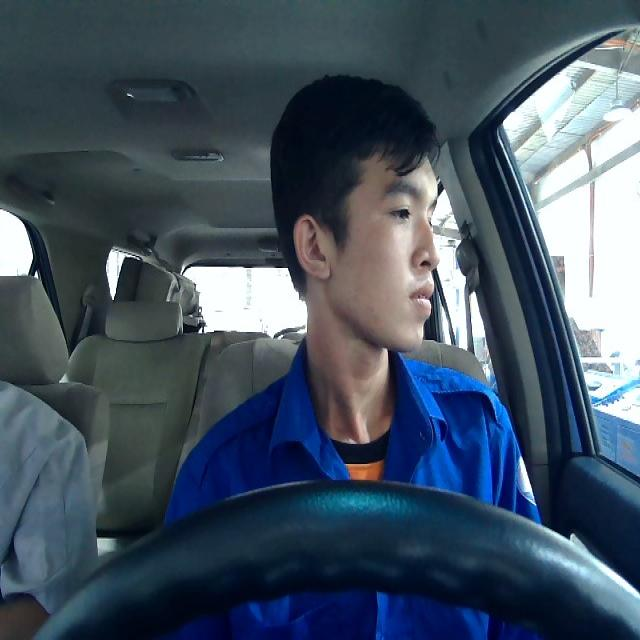seeing_right: (288, 140, 441, 356)
